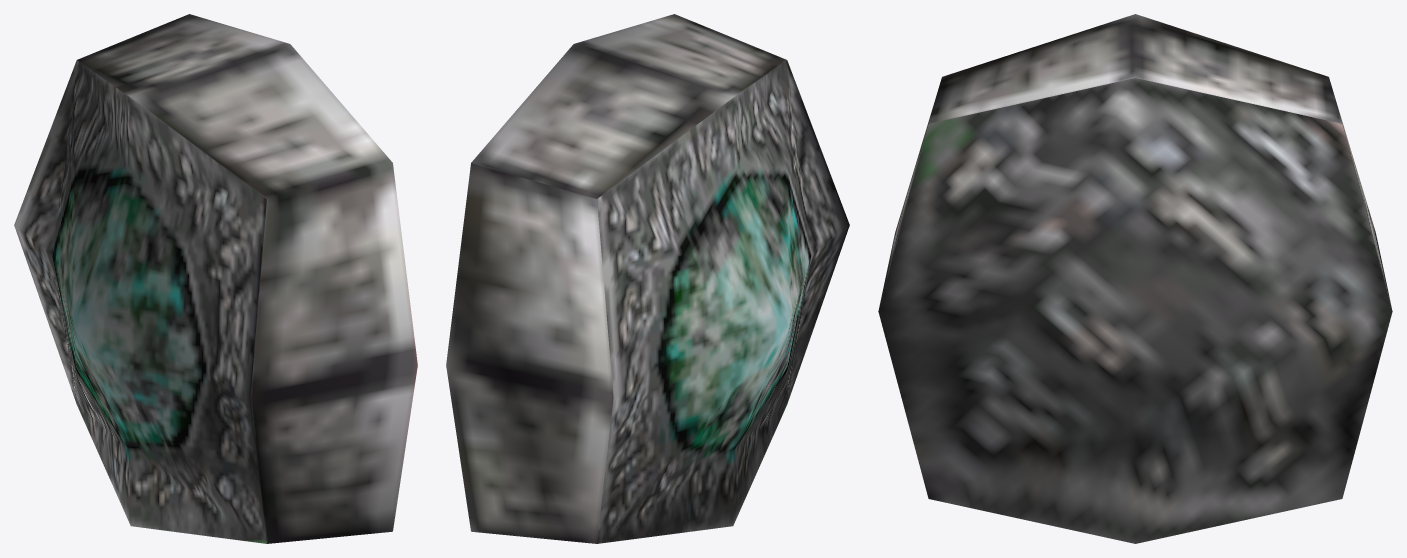
Rendered from earring_s15_m_l0.fbx.
3 views of the same model, side by side, from view 1: azimuth 30°, elevation 25°; view 2: azimuth 150°, elevation 25°; view 3: azimuth 270°, elevation 25° (orthographic).
Parts seen in each view (by area): view 1: mesh_node; view 2: mesh_node; view 3: mesh_node.
Boxes of the visible parts, left/top/right/bottom form: mesh_node: left=14, top=14, right=417, bottom=543; mesh_node: left=446, top=14, right=849, bottom=543; mesh_node: left=878, top=14, right=1392, bottom=543.
Size of the model in its own units: 0.0145 by 0.0295 by 0.0295.
